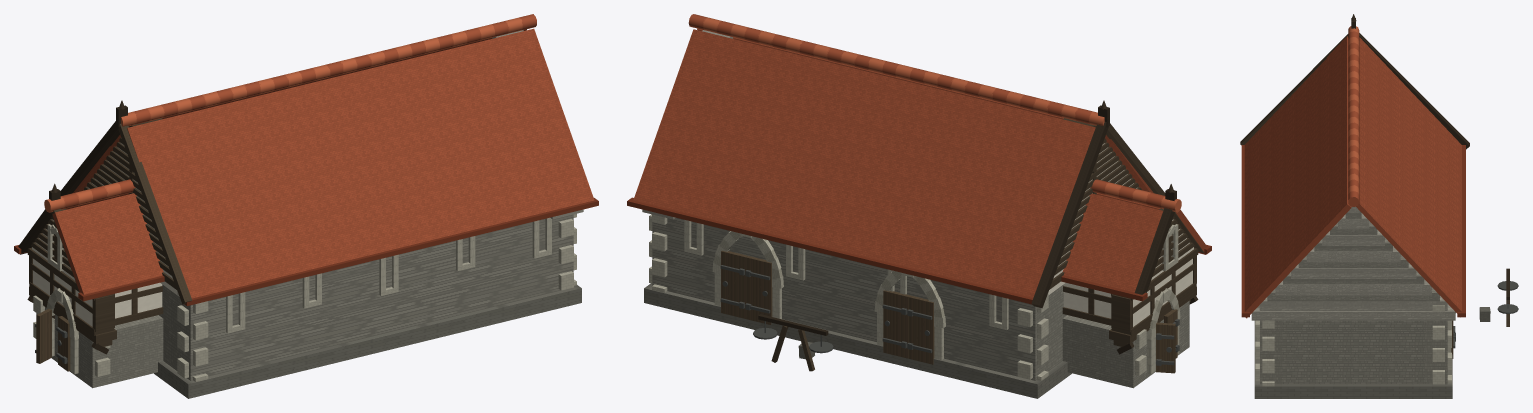
File: rat-2-built.glb
The picture shows the model from 3 angles, left to right: view 1: azimuth 30°, elevation 25°; view 2: azimuth 150°, elevation 25°; view 3: azimuth 270°, elevation 25°; orthographic projection. The views are drawn at different scales.
Bounding box in the file's own units: 33.28 × 16.71 × 19.26.
47 materials, 41 textured.
